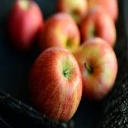apple: (27, 45, 83, 124)
